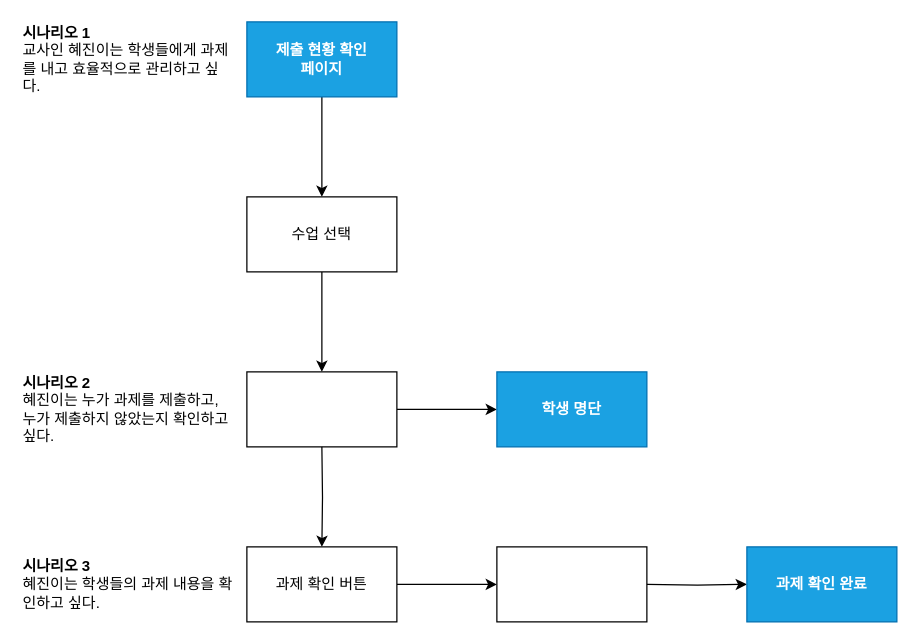
This 919x644 diagram has some shape labels left out. Each missing label, with the centre of its shape:
"과제 선택" goes at [321,409].
"확인 버튼" goes at [571,584].
